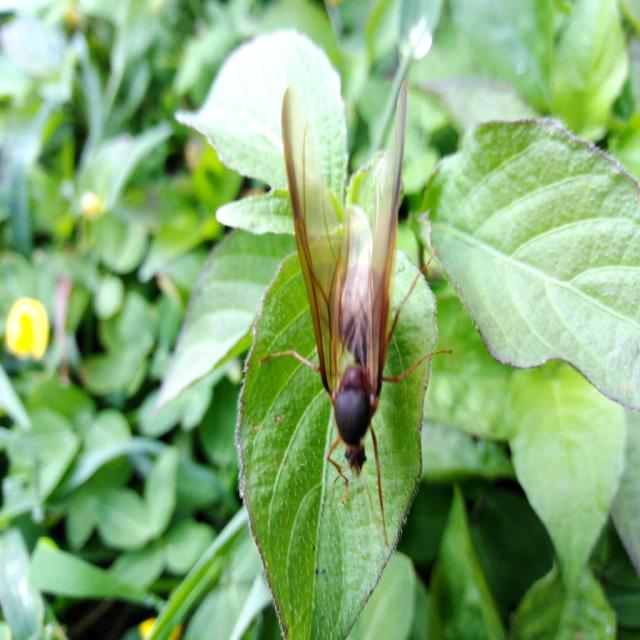Alive-Male-Alate: (257, 77, 455, 549)
